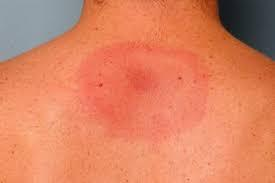Tick: (82, 39, 210, 142)
